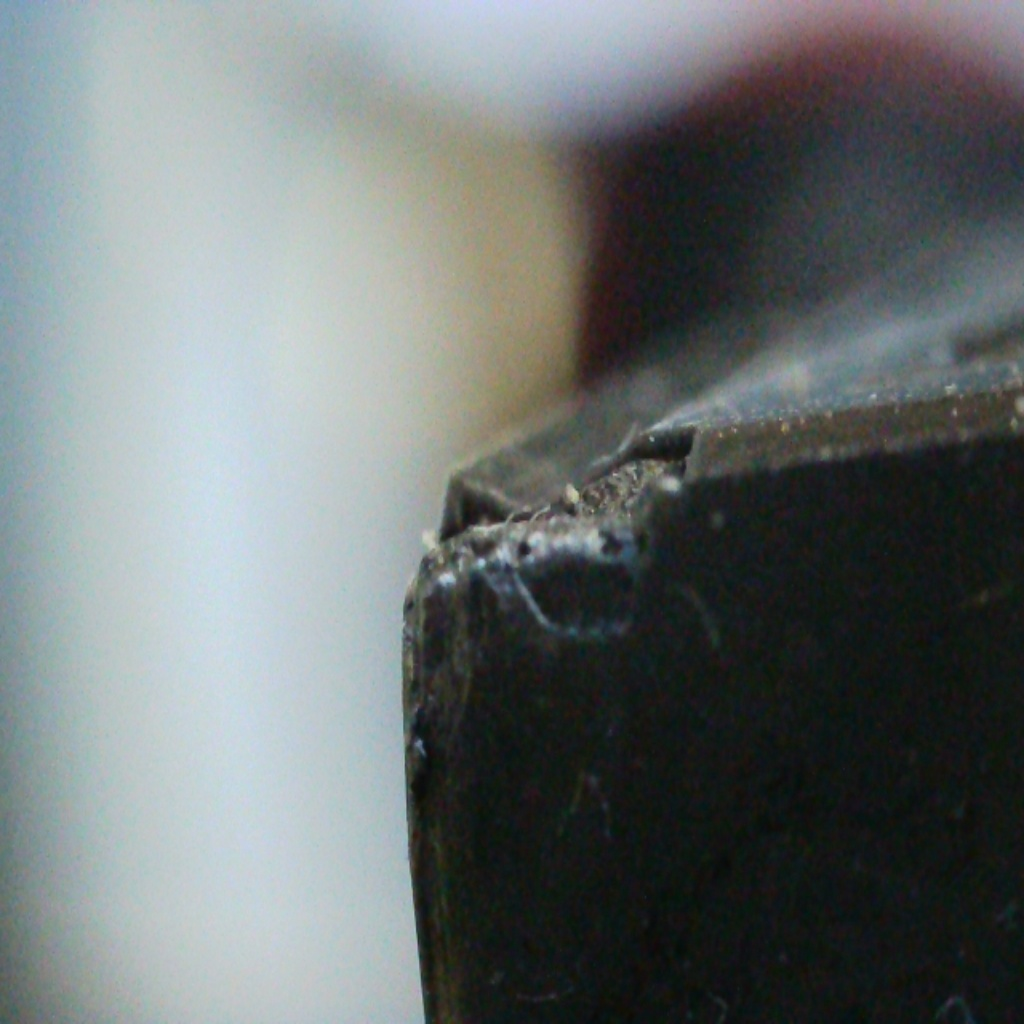flank_wear: (508, 541, 644, 638)
